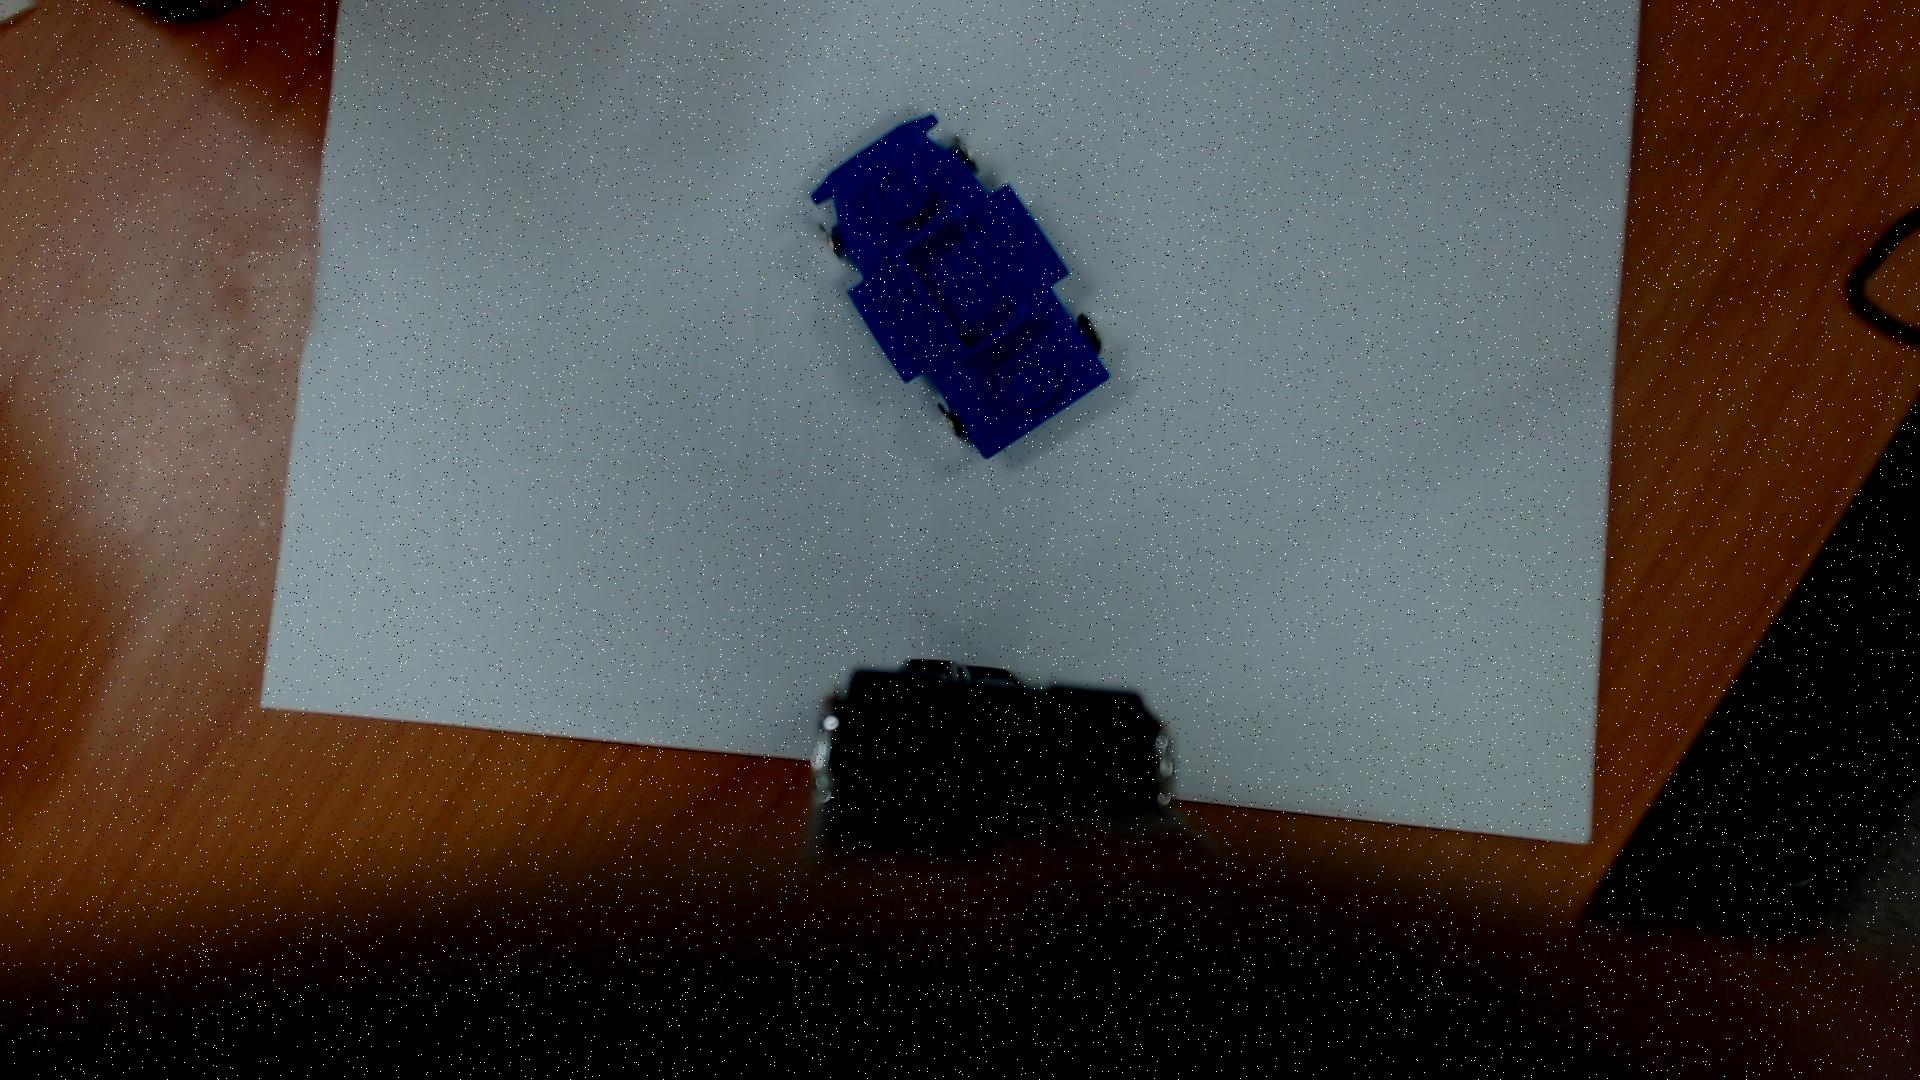lower_ng: (881, 199, 1043, 376)
